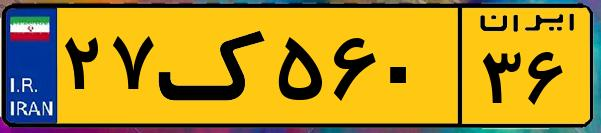0: (385, 28, 445, 110)
2: (57, 26, 110, 100)
3: (475, 38, 525, 113)
5: (270, 28, 330, 110)
6: (330, 28, 385, 110), (525, 38, 570, 115)
7: (110, 28, 158, 98)
ک: (158, 12, 270, 120)
